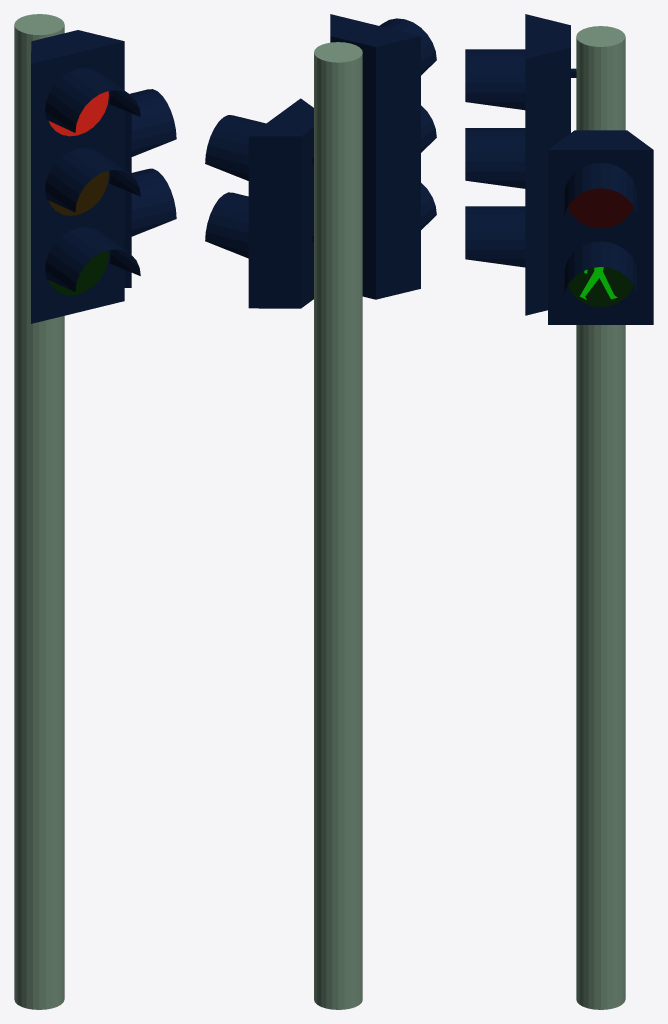
Rendered from traffic_light_ped.obj.
The picture shows the model from 3 angles, left to right: view 1: azimuth 30°, elevation 25°; view 2: azimuth 150°, elevation 25°; view 3: azimuth 270°, elevation 25°; orthographic projection. The views are drawn at different scales.
Visible parts, largest first — view 1: 14_14, 7_7, 4_4, 3_3, 2_2, 12_12, 8_8, 10_10, 6_6, 1_1, 5_5; view 2: 14_14, 7_7, 10_10, 8_8, 12_12, 2_2; view 3: 14_14, 10_10, 7_7, 4_4, 2_2, 3_3, 8_8, 12_12, 9_9, 11_11, 13_13.
Part boxes in pixels (bbox=[...]): 14_14: bbox=[14, 14, 64, 1009]; 7_7: bbox=[31, 30, 124, 323]; 4_4: bbox=[45, 227, 140, 291]; 3_3: bbox=[45, 147, 140, 212]; 2_2: bbox=[45, 68, 140, 132]; 12_12: bbox=[131, 168, 176, 236]; 8_8: bbox=[130, 89, 176, 156]; 10_10: bbox=[124, 110, 131, 287]; 6_6: bbox=[48, 250, 108, 295]; 1_1: bbox=[48, 171, 108, 215]; 5_5: bbox=[49, 91, 108, 136]; 14_14: bbox=[314, 42, 362, 1009]; 7_7: bbox=[330, 14, 420, 299]; 10_10: bbox=[248, 98, 313, 308]; 8_8: bbox=[205, 115, 265, 180]; 12_12: bbox=[205, 192, 248, 258]; 2_2: bbox=[379, 18, 436, 75]; 14_14: bbox=[576, 26, 625, 1009]; 10_10: bbox=[548, 130, 653, 324]; 7_7: bbox=[525, 14, 576, 315]; 4_4: bbox=[465, 206, 525, 267]; 2_2: bbox=[465, 49, 525, 110]; 3_3: bbox=[465, 128, 525, 188]; 8_8: bbox=[564, 162, 637, 221]; 12_12: bbox=[564, 241, 637, 299]; 9_9: bbox=[568, 188, 633, 228]; 11_11: bbox=[568, 267, 633, 307]; 13_13: bbox=[580, 267, 617, 299].
Size of the model in its own units: 53.2 by 300 by 53.2.
